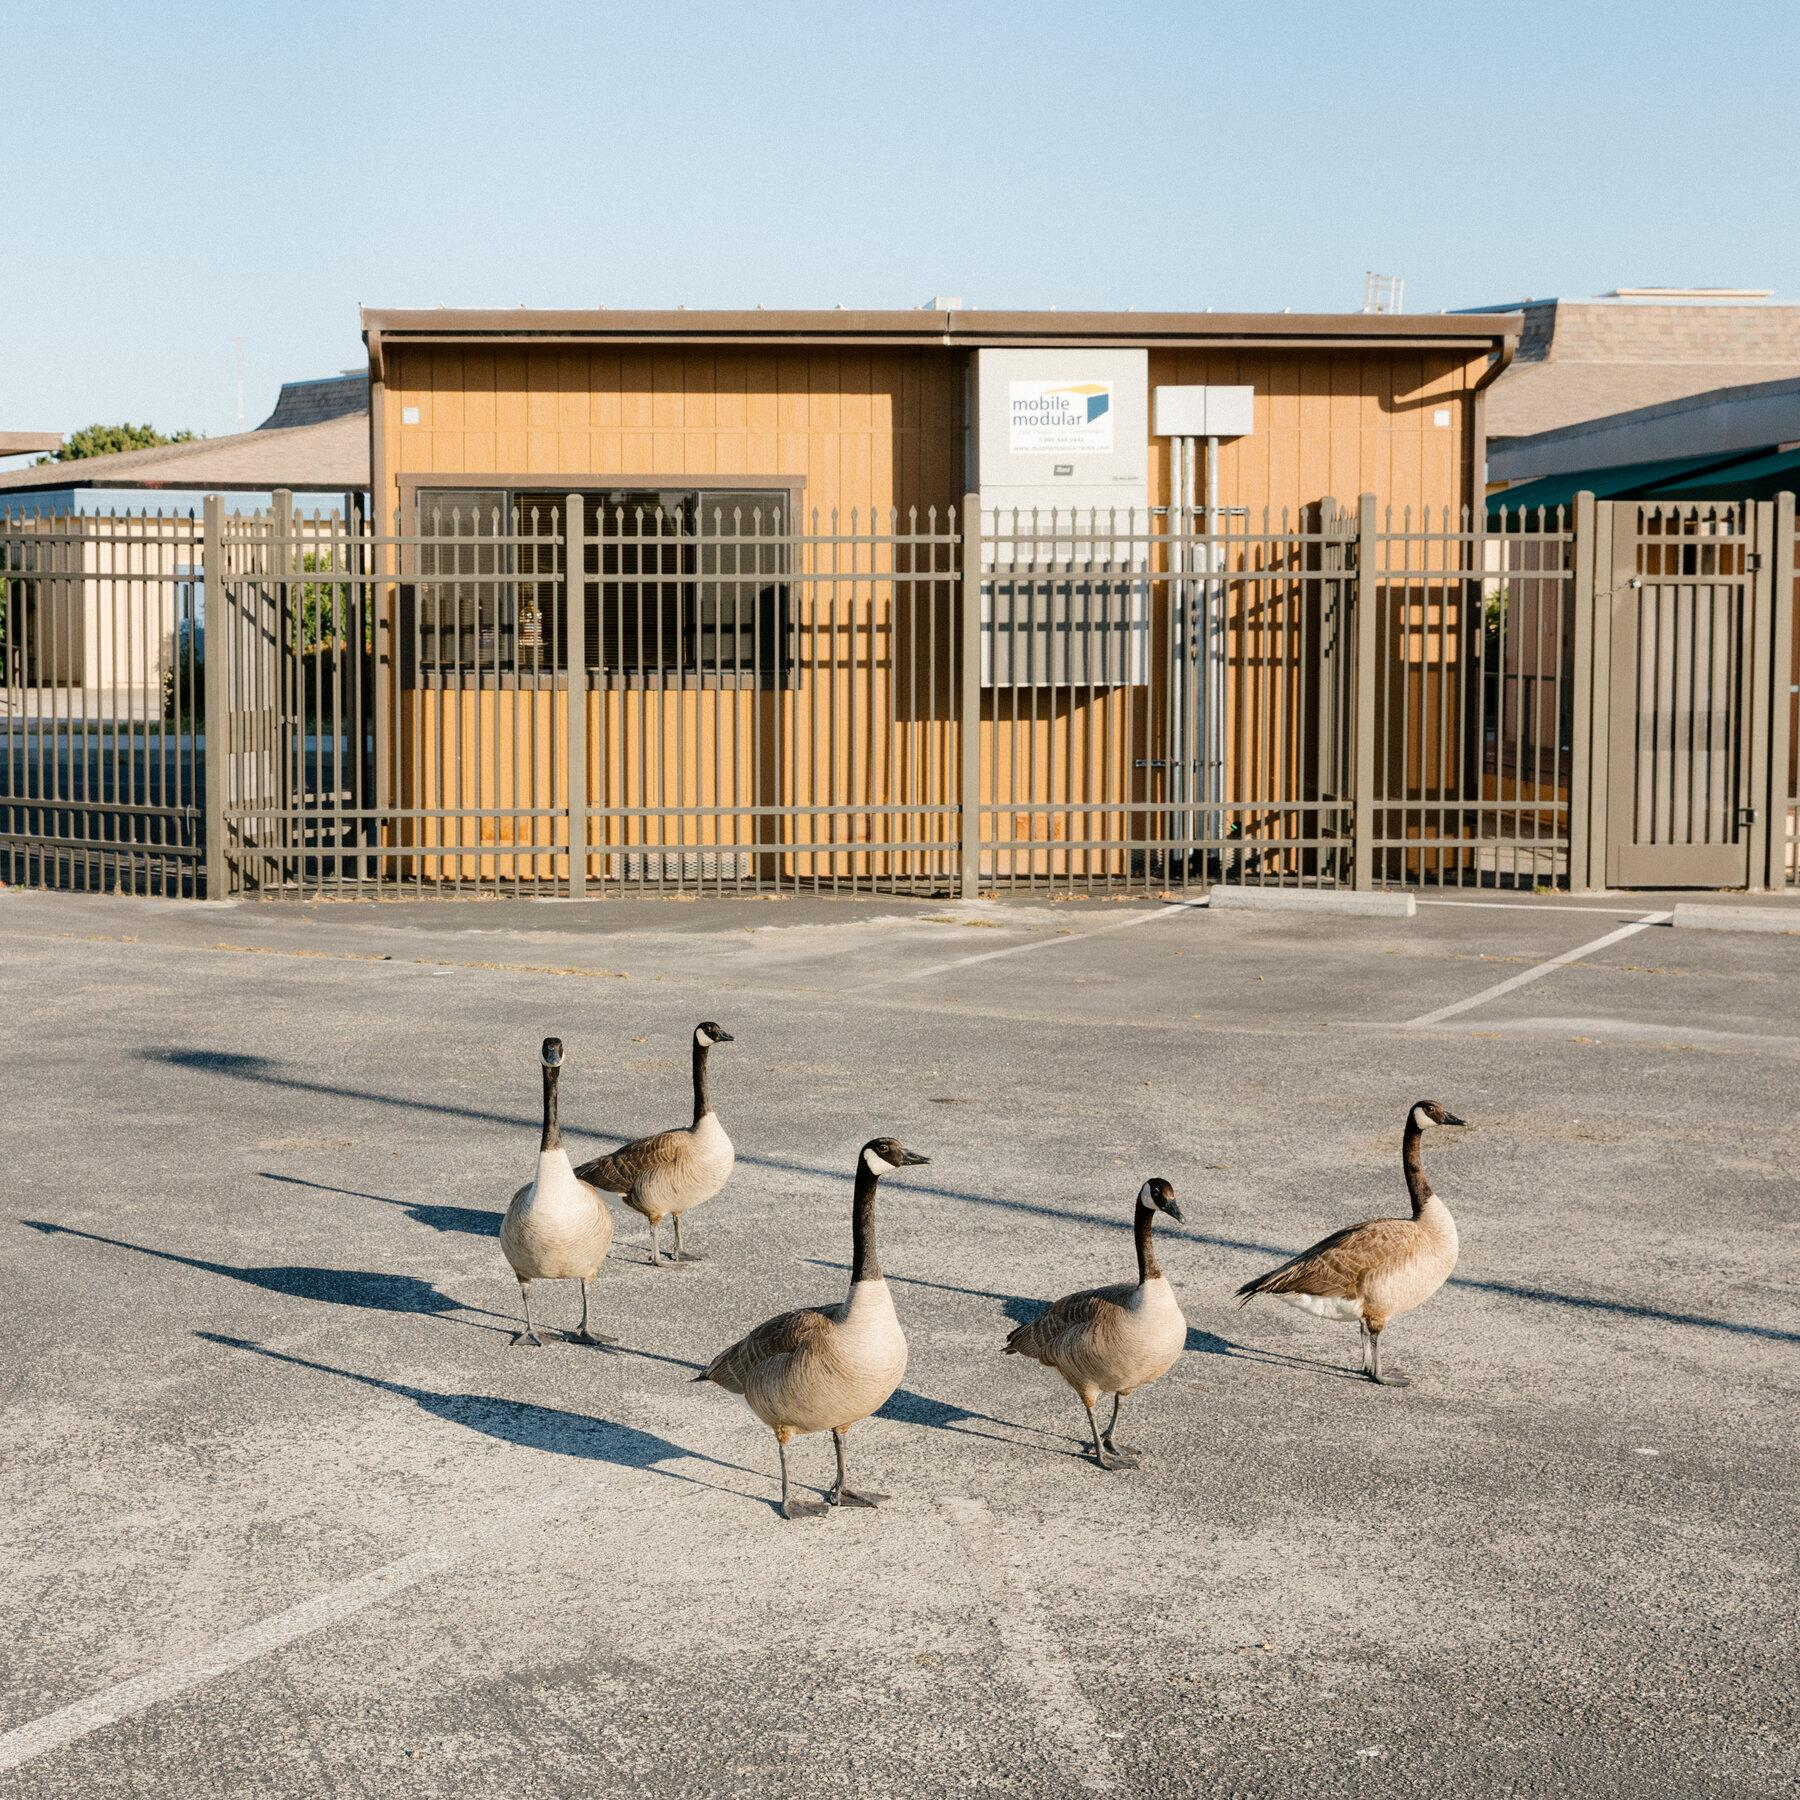Canadian-Goose: (714, 1129, 936, 1518), (1238, 1093, 1467, 1395), (1009, 1165, 1193, 1475), (592, 1009, 752, 1238), (506, 1035, 613, 1348)
